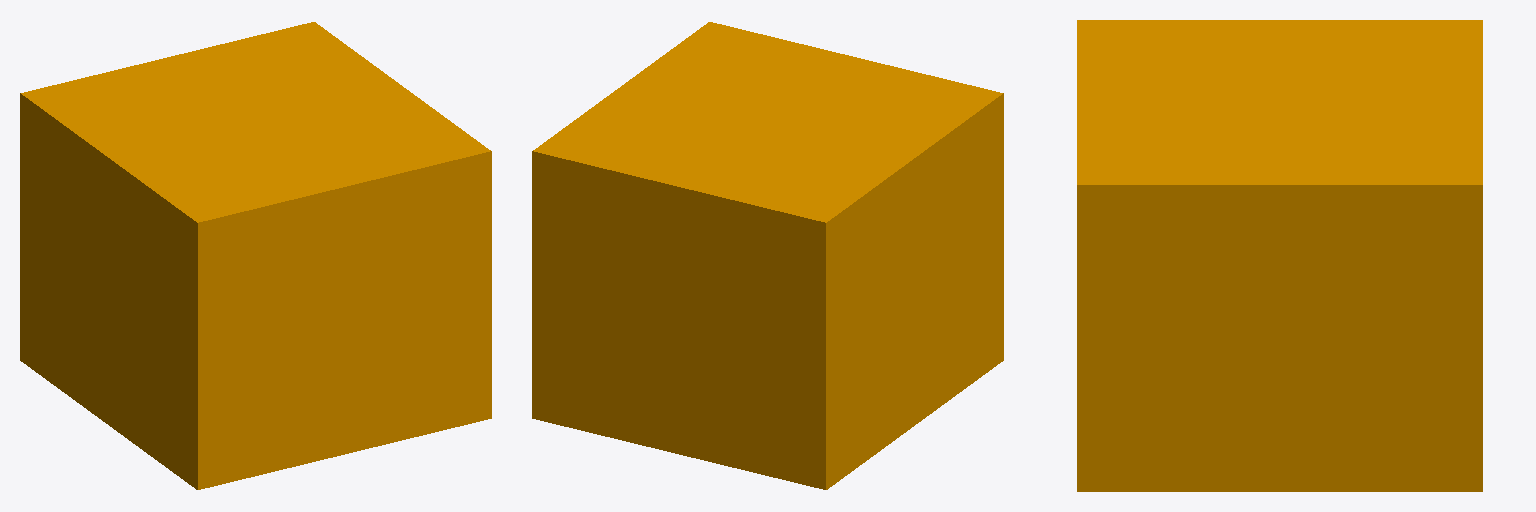
The robot description file, URDF, robot "object":
<robot name="object">
  <link name="object">
    <visual>
      <origin xyz="0 0 0" />
      <geometry>
        <box size="0.09200000000000003 0.09600000000000003 0.08" />
      </geometry>
    </visual>

    <collision>
      <origin xyz="0 0 0" />
      <geometry>
        <box size="0.09200000000000003 0.09600000000000003 0.08" />
      </geometry>
    </collision>

    <inertial>
      <mass value="0.05" />
      <inertia ixx="0.0001" ixy="0.0" ixz="0.0" iyy="0.0001" iyz="0.0" izz="0.0001" />
    </inertial>
  </link>
</robot>

--- Facts derived from the render (not from the file) ---
The picture shows the robot from 3 angles, left to right: view 1: azimuth 30°, elevation 25°; view 2: azimuth 150°, elevation 25°; view 3: azimuth 270°, elevation 25°; orthographic projection.
Model object with 1 links and 0 joints (none), rooted at object, posed all joints at 0.
Links seen in each view (by area): view 1: object; view 2: object; view 3: object.
Boxes of the visible links, x1,y1,x2,y2 form: object: (20,22,491,489); object: (532,22,1003,489); object: (1077,20,1482,491).
Size in the robot's own frame: 0.092 by 0.096 by 0.08 metres.
Geometry: primitives only (box / cylinder / sphere), no mesh files.